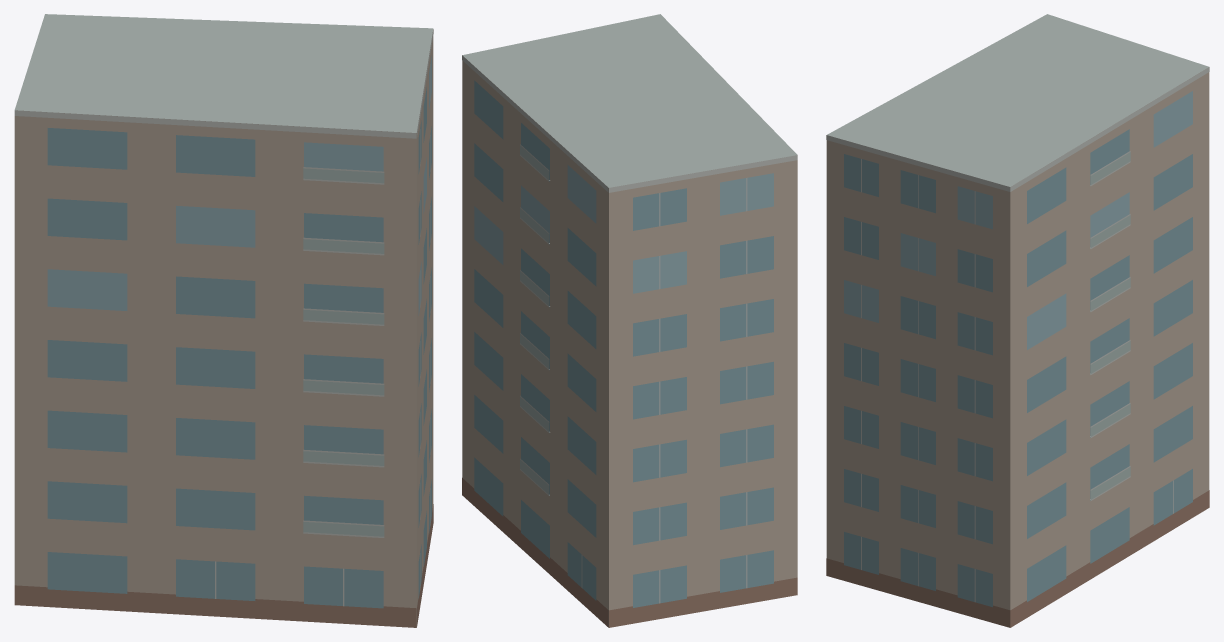
Rendered from survey-upis-33011045.glb.
3 renders of one model, left to right at view 1: azimuth 30°, elevation 25°; view 2: azimuth 150°, elevation 25°; view 3: azimuth 270°, elevation 25°, orthographic. The views are drawn at different scales.
Visible parts, largest first — view 1: survey-upis-33011045.tmp; view 2: survey-upis-33011045.tmp; view 3: survey-upis-33011045.tmp.
Part boxes in pixels (x1,y1,x2,y2): survey-upis-33011045.tmp: [14, 14, 433, 627]; survey-upis-33011045.tmp: [462, 14, 797, 627]; survey-upis-33011045.tmp: [826, 14, 1209, 627].
Bounding box in the file's own units: 17.99 × 21.35 × 16.82.
